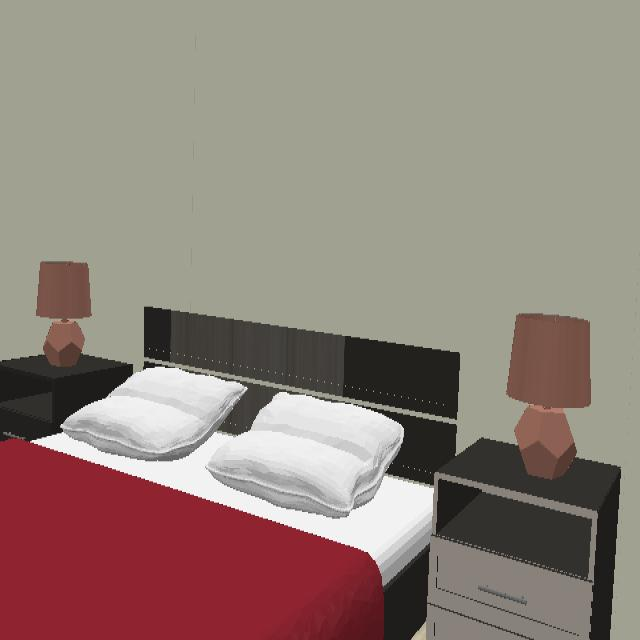bed: (0, 308, 460, 640)
lamp: (505, 313, 591, 479), (35, 261, 92, 367)
nighttable: (412, 439, 621, 640), (0, 355, 135, 441)
pillow: (31, 367, 366, 520)
